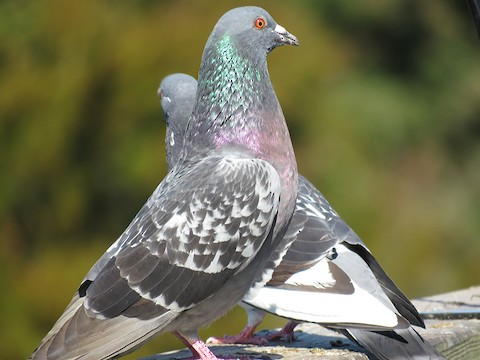pigeon: (22, 1, 301, 354), (152, 70, 444, 360)
